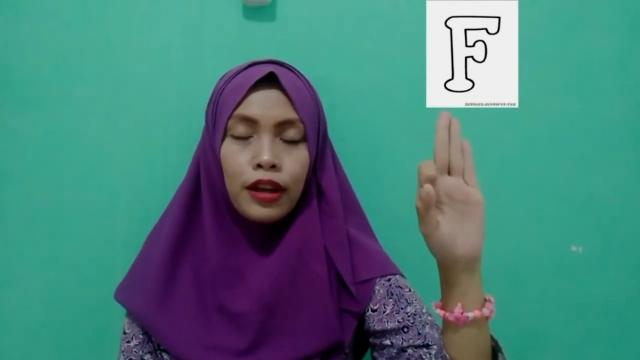F: (412, 110, 490, 266)
